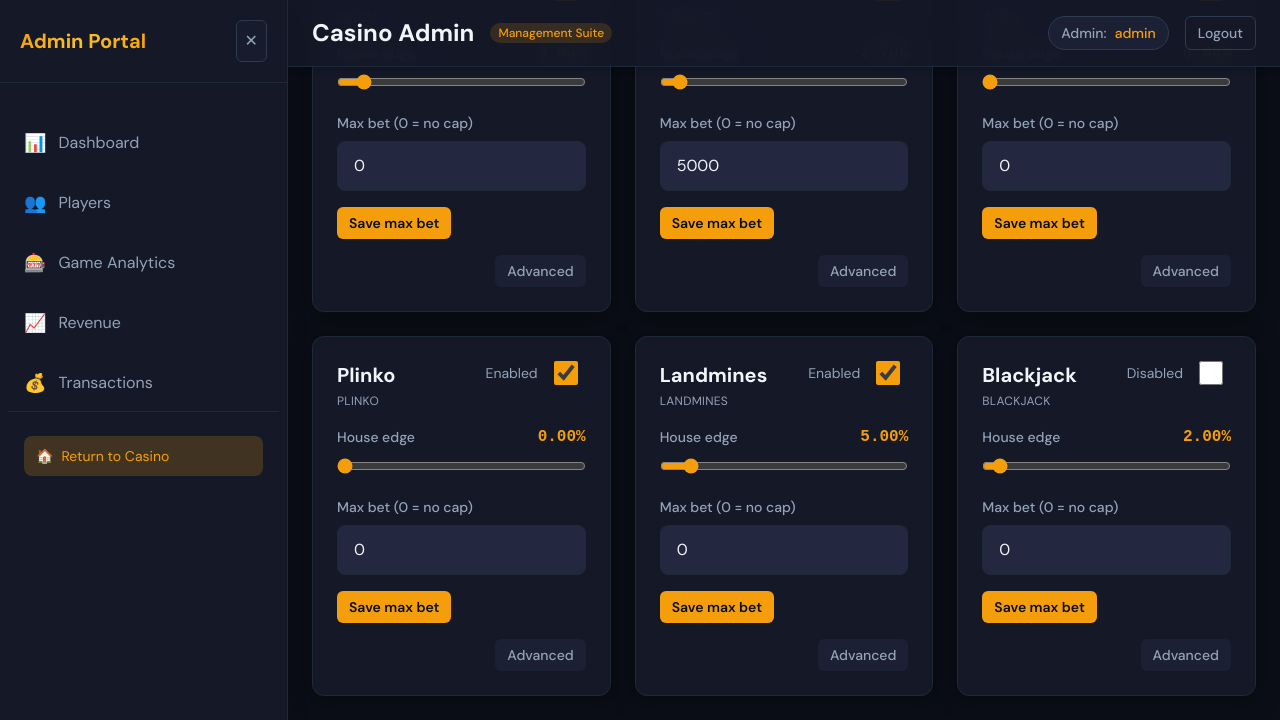
Test: GamesConfigPage › advanced payout editor modal › renders the Plinko editor when Advanced is opened for plinko
(page scrolled)
Click the button with test id "advanced-plinko": [540, 655] box [495,639,586,671]
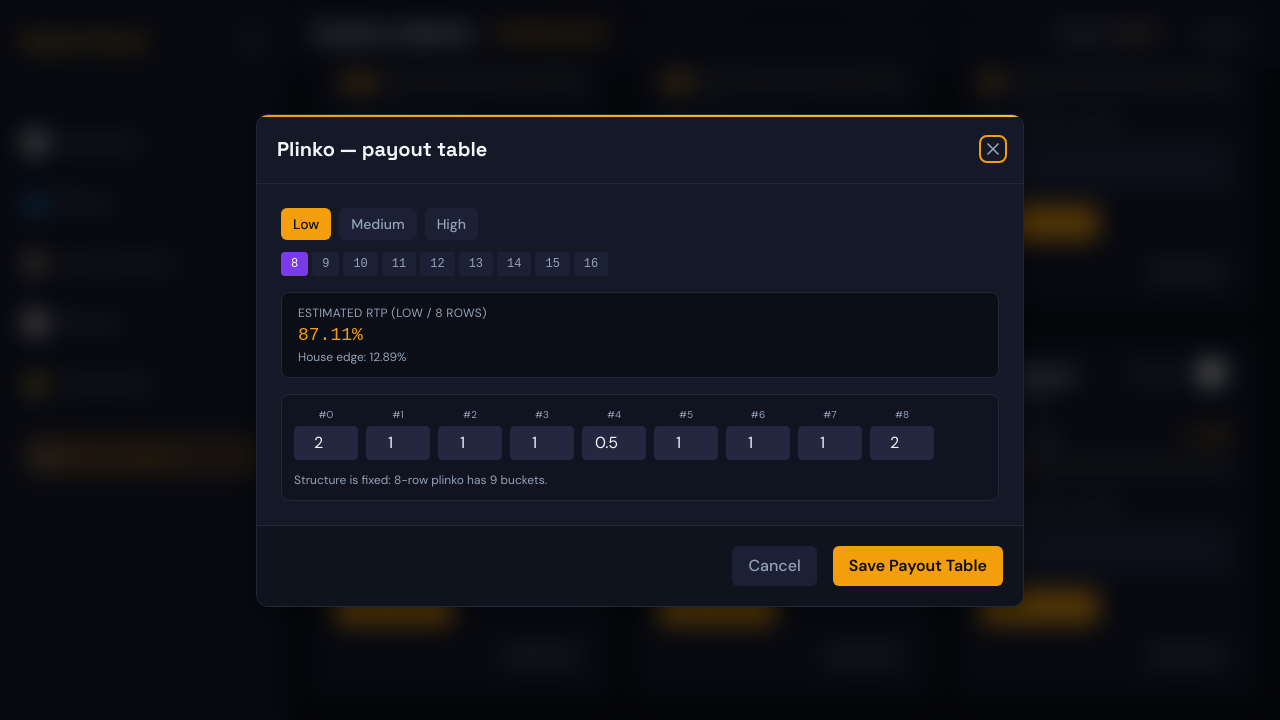
Check: the element with test id "plinko-payout-editor" is shown, box [281,208,999,500]
